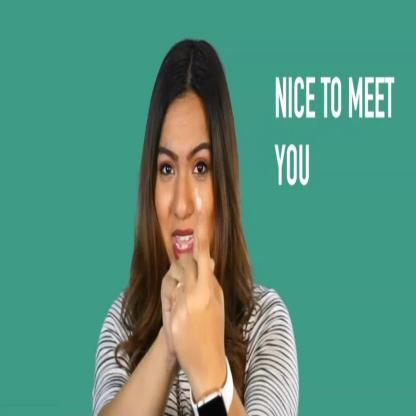NiceToMeetYou: (160, 188, 226, 392)
